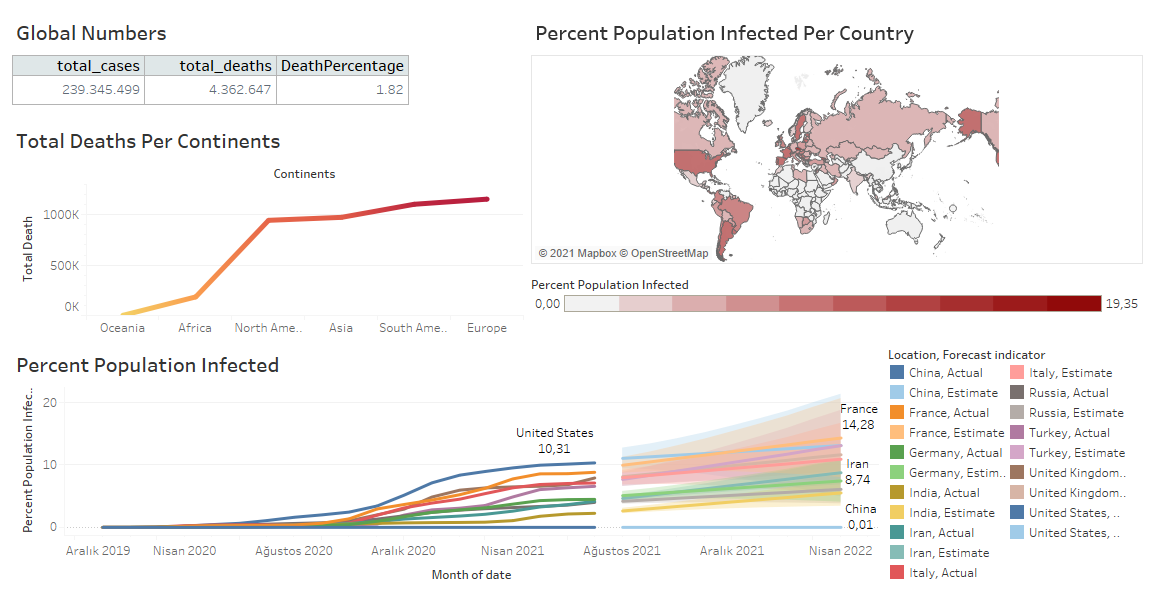

Layout of this report page (visuals, bound fields, positions):
{"tool":"tableau","page":{"name":"Dashboard 1","canvas":[1000,1000],"units":"permille","ordinal":0},"visuals":[{"type":"worksheet","box":[0,0,1000,1000]},{"type":"worksheet","param":"vert","box":[6.8,13.3,986.5,973.4]},{"type":"worksheet","param":"vert","box":[6.8,13.3,986.5,973.4]},{"type":"worksheet","param":"horz","box":[6.8,13.3,986.5,973.4]},{"type":"worksheet","param":"horz","box":[6.8,13.3,986.5,973.4]},{"type":"worksheet","param":"horz","box":[6.8,13.3,986.5,973.4]},{"type":"worksheet","box":[6.8,13.3,986.5,973.4]},{"type":"worksheet","title":"Sheet 1","mark":"Automatic","box":[6.8,13.3,449.2,179.4]},{"type":"worksheet","title":"Sheet 3","mark":"Automatic","box":[456,13.3,537.2,431.9]},{"type":"worksheet","title":"Sheet 2","mark":"Line","rows":["TotalDeathCount"],"cols":["location"],"box":[6.8,192.7,449.2,372.1]},{"type":"worksheet","title":"Sheet 3","mark":"Automatic","param":"[federated.1q0kfud1ftacg71b8u60c0lxu6tb].[sum:PercentPopulationInfected:qk]","box":[456,445.1,537.2,119.6]},{"type":"worksheet","title":"Sheet 4","mark":"Automatic","rows":["PercentPopulationInfected"],"cols":["date"],"box":[6.8,564.7,757.9,422]},{"type":"worksheet","title":"Sheet 4","mark":"Automatic","rows":["PercentPopulationInfected"],"cols":["date"],"param":"[federated.0qupg7c0euhgig1cacsml027lawm].[none:Location:nk]\n[federated.0qupg7c0e","box":[764.7,564.7,228.5,422]}]}

Visuals, with their boxes on the dashboard's canvas, which has no fixed pixel size, in thousandths of its width and height (x1, y1, x2, y2). These are canvas units, not pixel positions in the 1155x602 screenshot, which may show the page scaled, cropped or inside an application window:
worksheet: 0:0:1000:1000
worksheet: 7:13:993:987
worksheet: 7:13:993:987
worksheet: 7:13:993:987
worksheet: 7:13:993:987
worksheet: 7:13:993:987
worksheet: 7:13:993:987
"Sheet 1" worksheet: 7:13:456:193
"Sheet 3" worksheet: 456:13:993:445
"Sheet 2" worksheet (Line marks): 7:193:456:565
"Sheet 3" worksheet: 456:445:993:565
"Sheet 4" worksheet: 7:565:765:987
"Sheet 4" worksheet: 765:565:993:987
